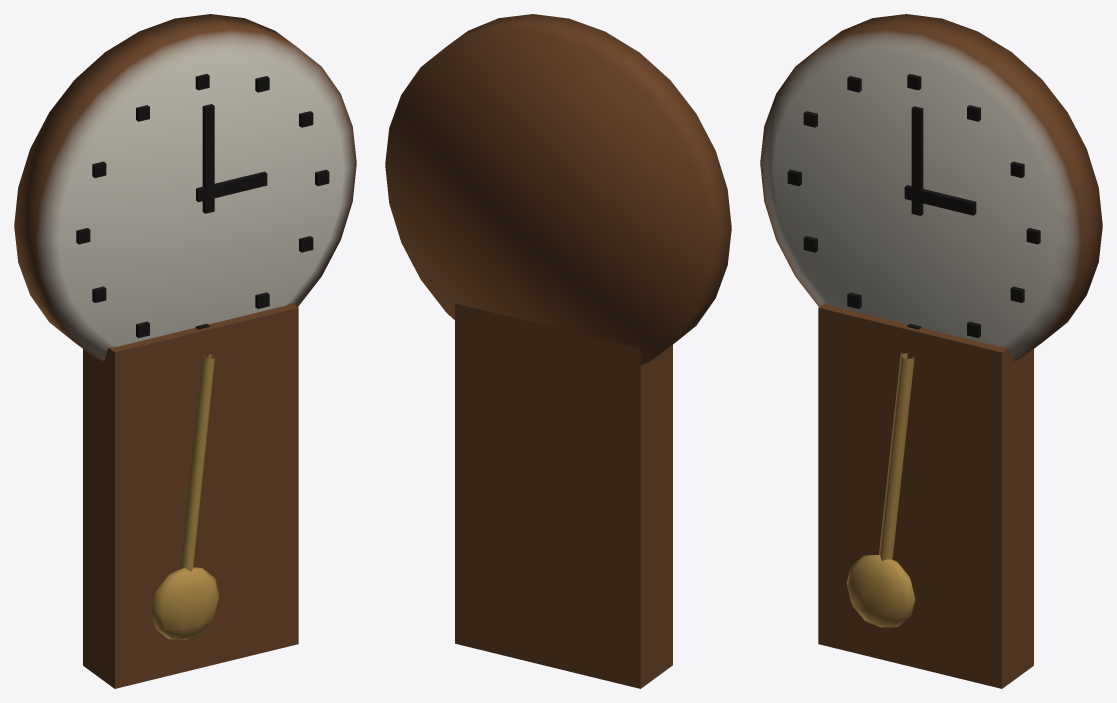
Rendered from Hut_Clock.fbx.
3 renders of one model, left to right at view 1: azimuth 30°, elevation 25°; view 2: azimuth 150°, elevation 25°; view 3: azimuth 330°, elevation 25°, orthographic.
Parts seen in each view (by area): view 1: Hut_Clock; view 2: Hut_Clock; view 3: Hut_Clock.
Boxes of the visible parts, x1,y1,x2,y2 form: Hut_Clock: [14, 14, 356, 688]; Hut_Clock: [385, 14, 731, 688]; Hut_Clock: [760, 14, 1102, 688].
Size of the model in its own units: 14 by 26 by 3.27.
